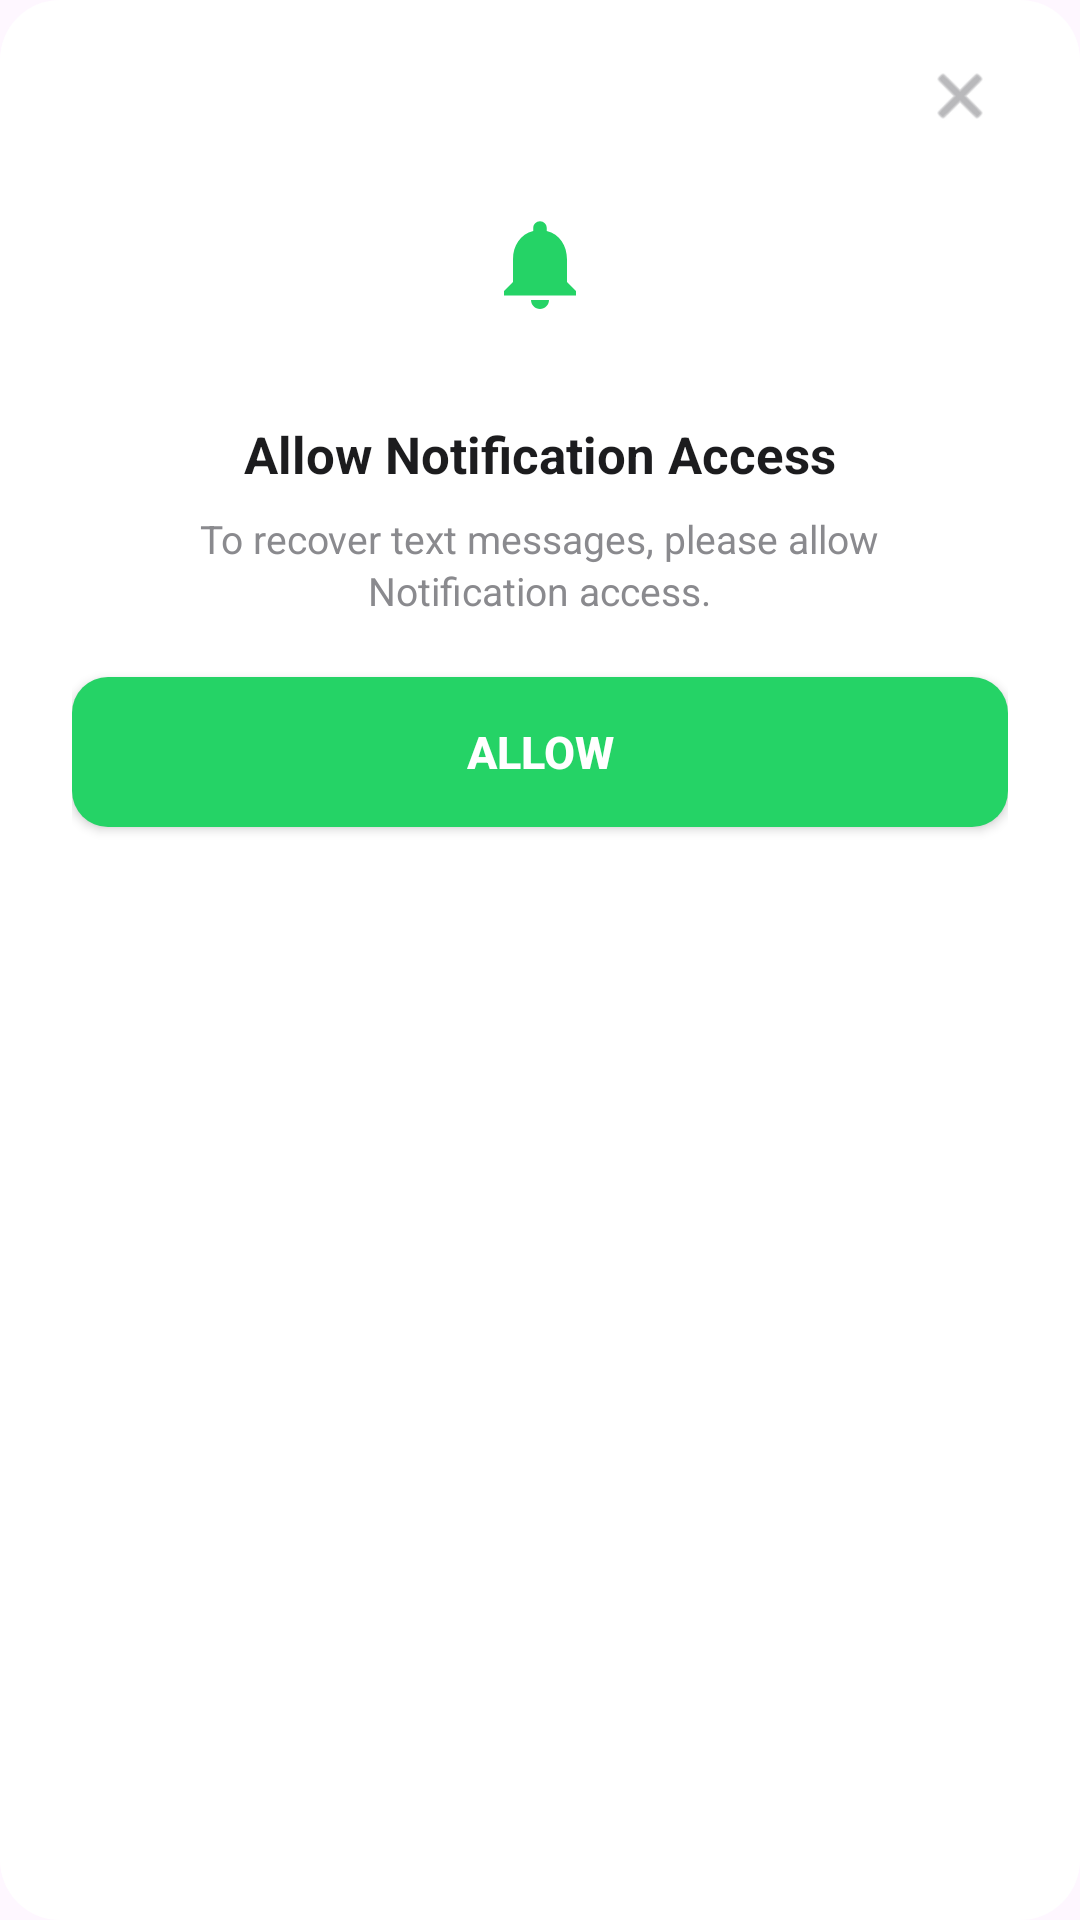

Named icons in this screenshot (1080px×1920px) and their bounding boxes, (x1, y1, x2, y2):
Close: (938, 74, 982, 118)
